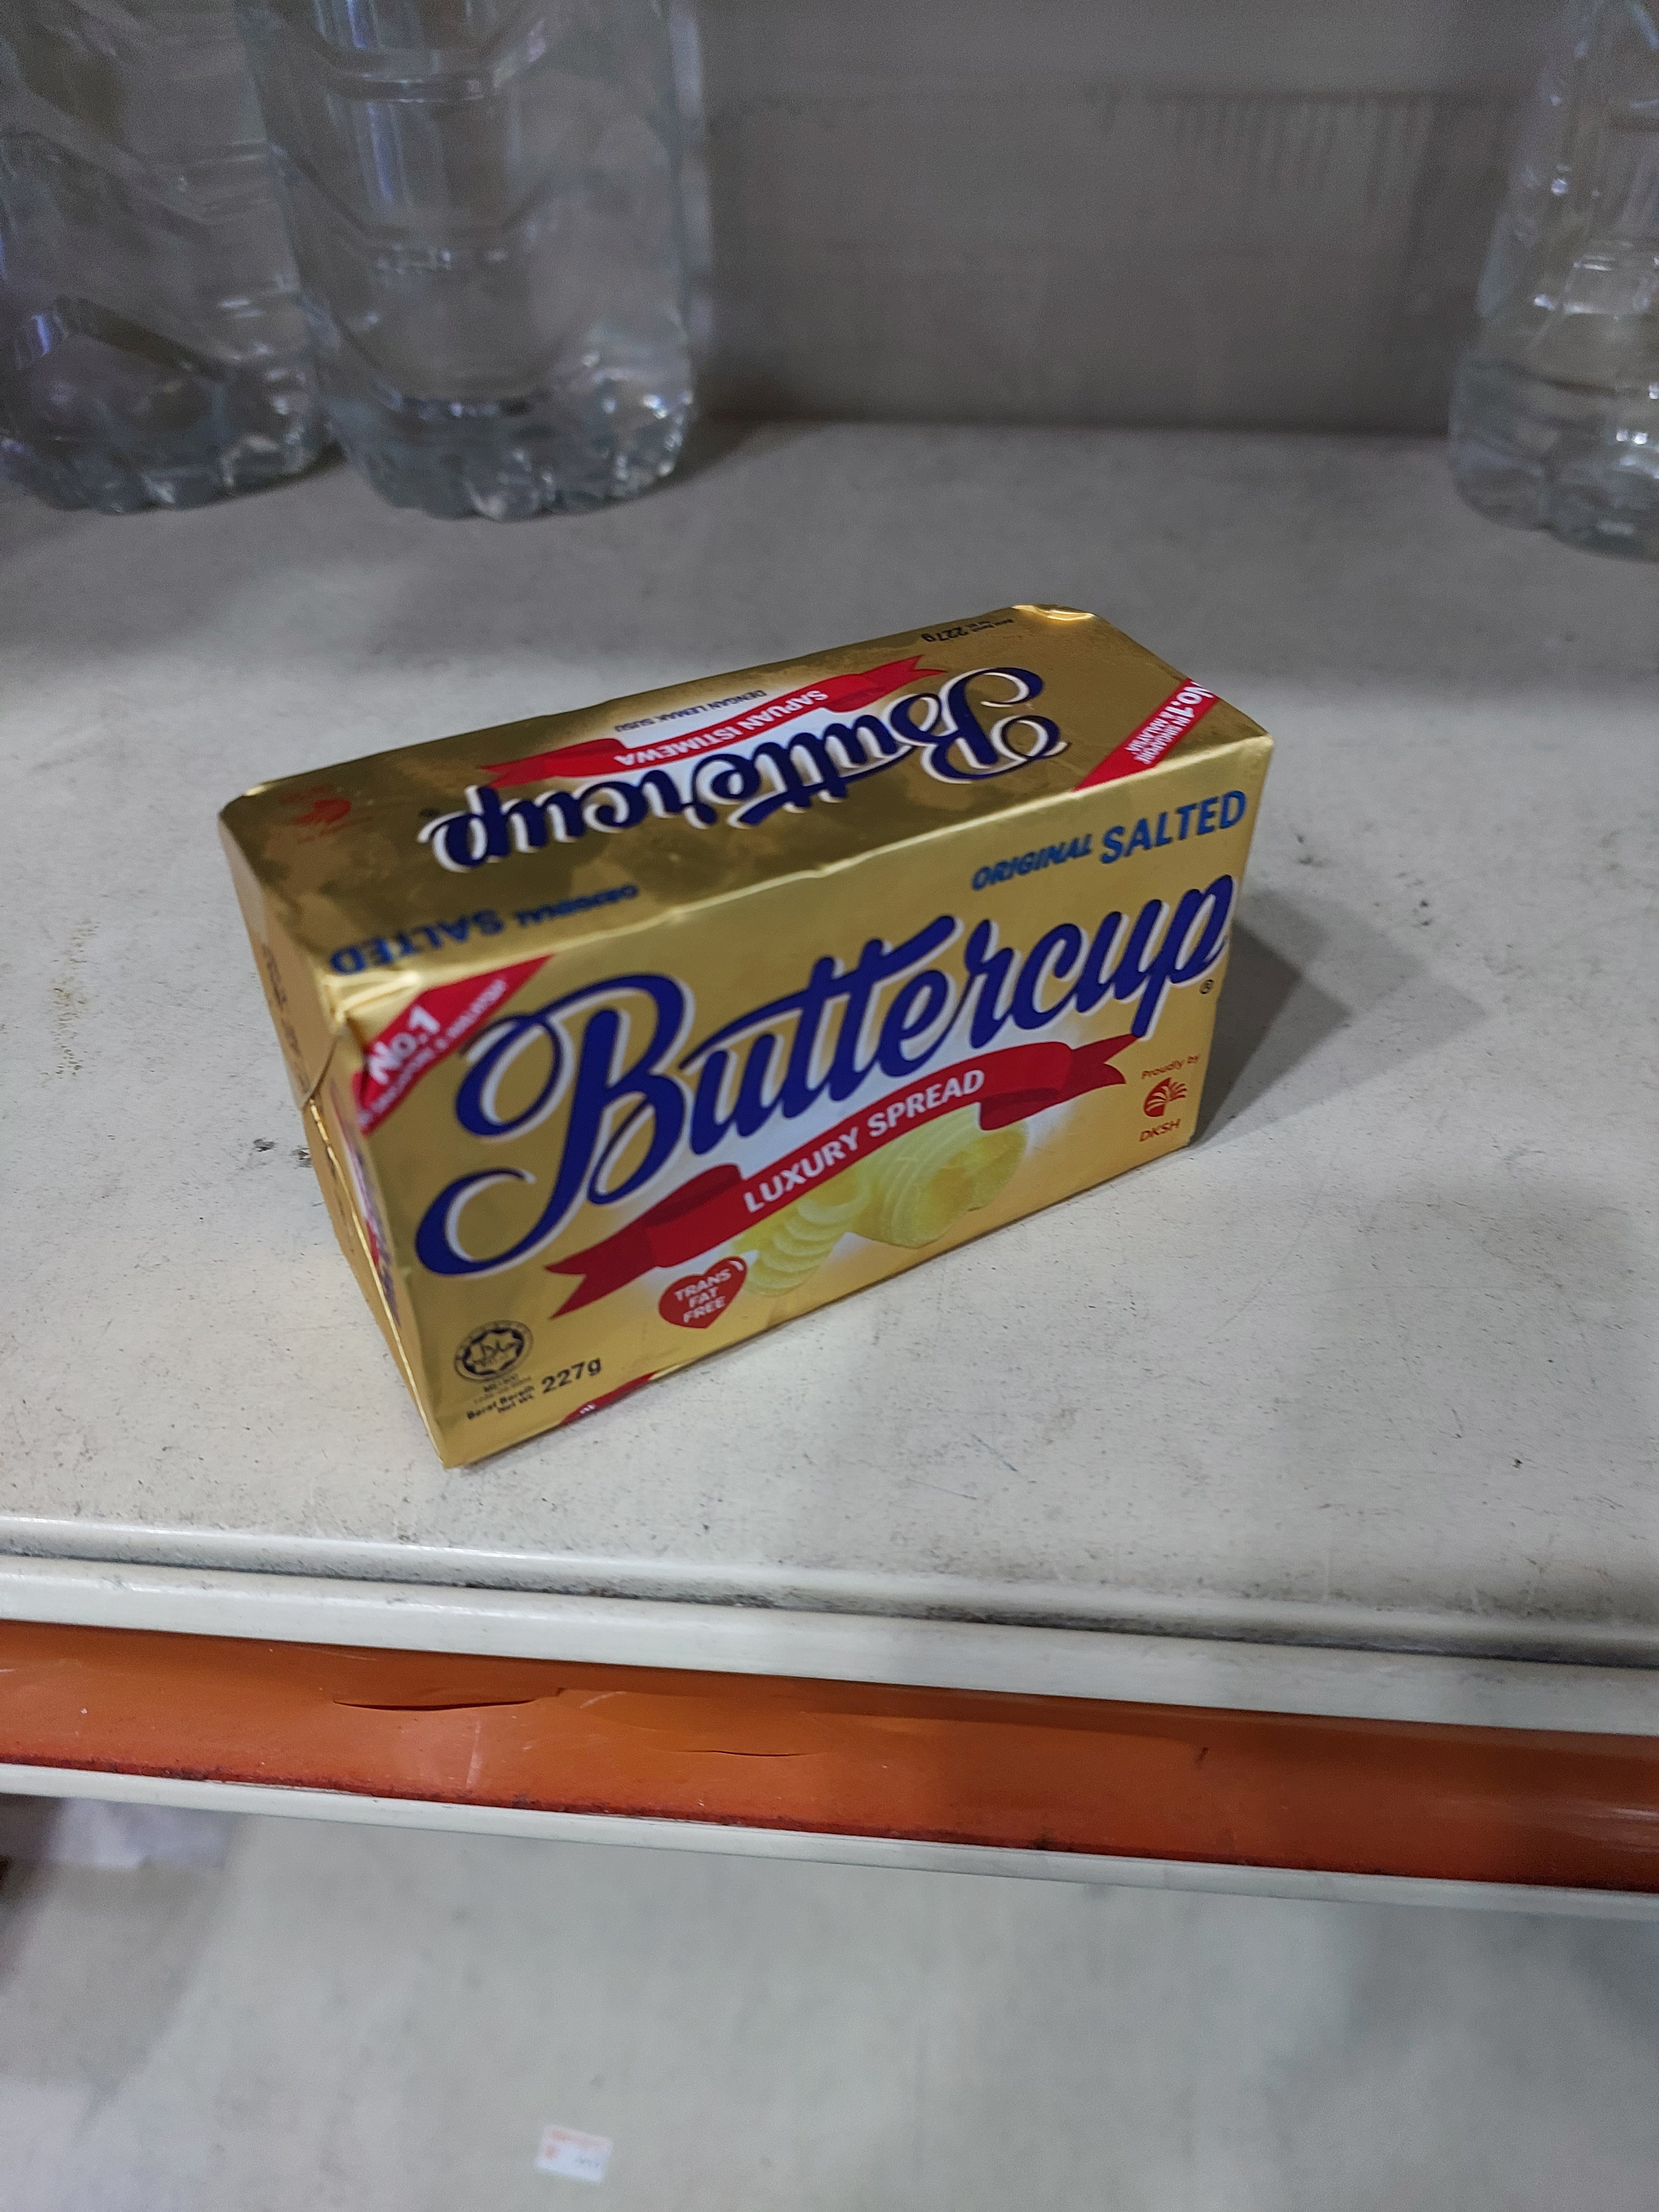butter: (214, 599, 1274, 1468)
